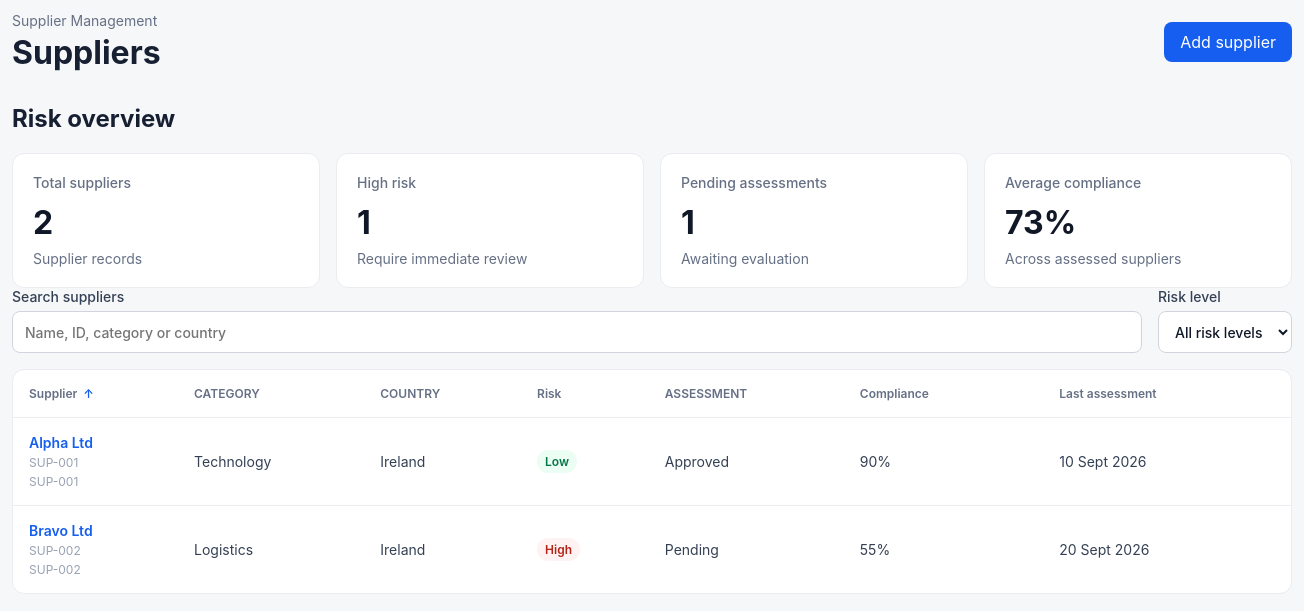
filters suppliers by search term
Expected: the button "Alpha Ltd" is shown, x1=29 y1=434 x2=162 y2=451
Type "Bravo" into the search field labelled "Search suppliers".
click(577, 332); type("Bravo")  # box x1=12 y1=311 x2=1142 y2=353
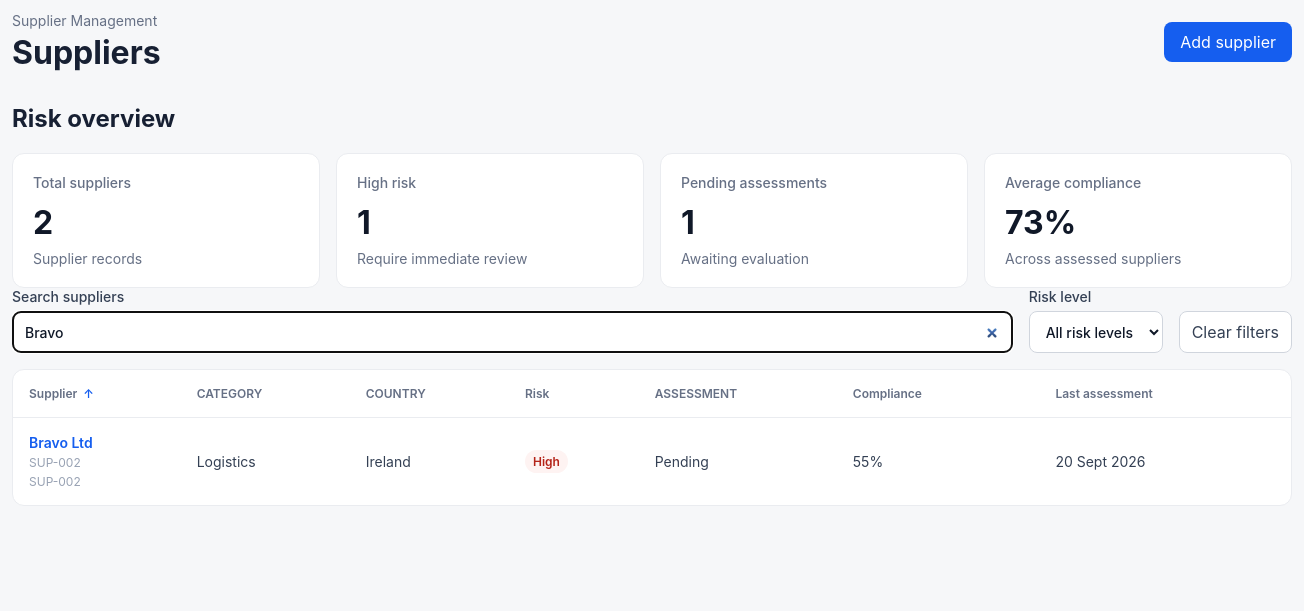
Expected: the button "Bravo Ltd" is shown, x1=29 y1=434 x2=165 y2=451
Expected: the button "Alpha Ltd" is gone
